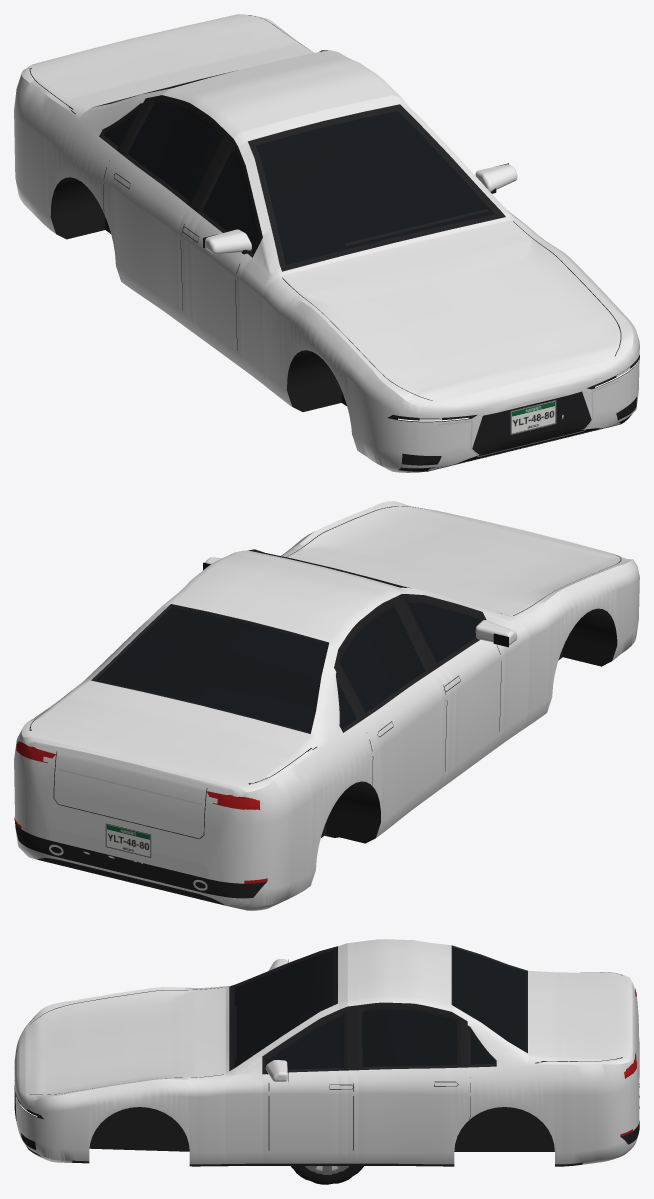
The model's file is mazda-3.glb.
3 views of the same model, one above another, from view 1: azimuth 30°, elevation 25°; view 2: azimuth 150°, elevation 25°; view 3: azimuth 270°, elevation 25° (orthographic). The views are drawn at different scales.
Parts seen in each view (by area): view 1: body; view 2: body; view 3: body, wheel.
Boxes of the visible parts, <box> form: body: <box>14,14,639,472</box>; body: <box>14,501,639,910</box>; body: <box>14,939,639,1166</box>; wheel: <box>291,1166,363,1184</box>.
Bounding box in the file's own units: 2.03 × 1.77 × 4.67.
Materials: 1 (1 with a texture image).
